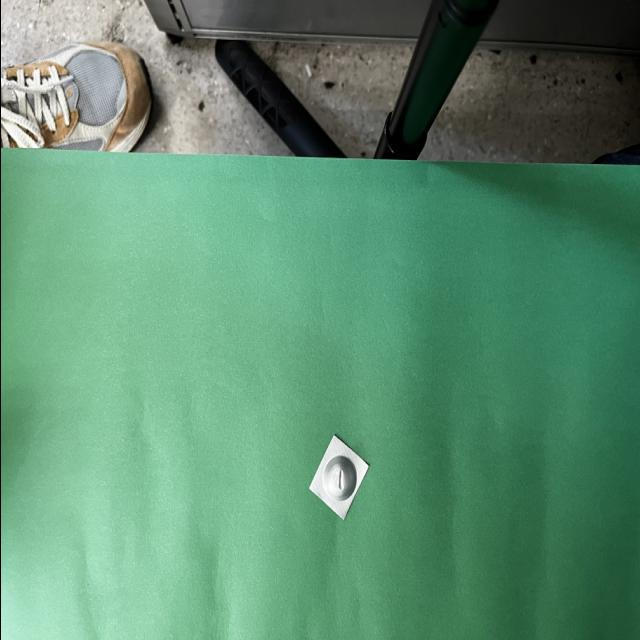Other Objects: (308, 435, 368, 519)
